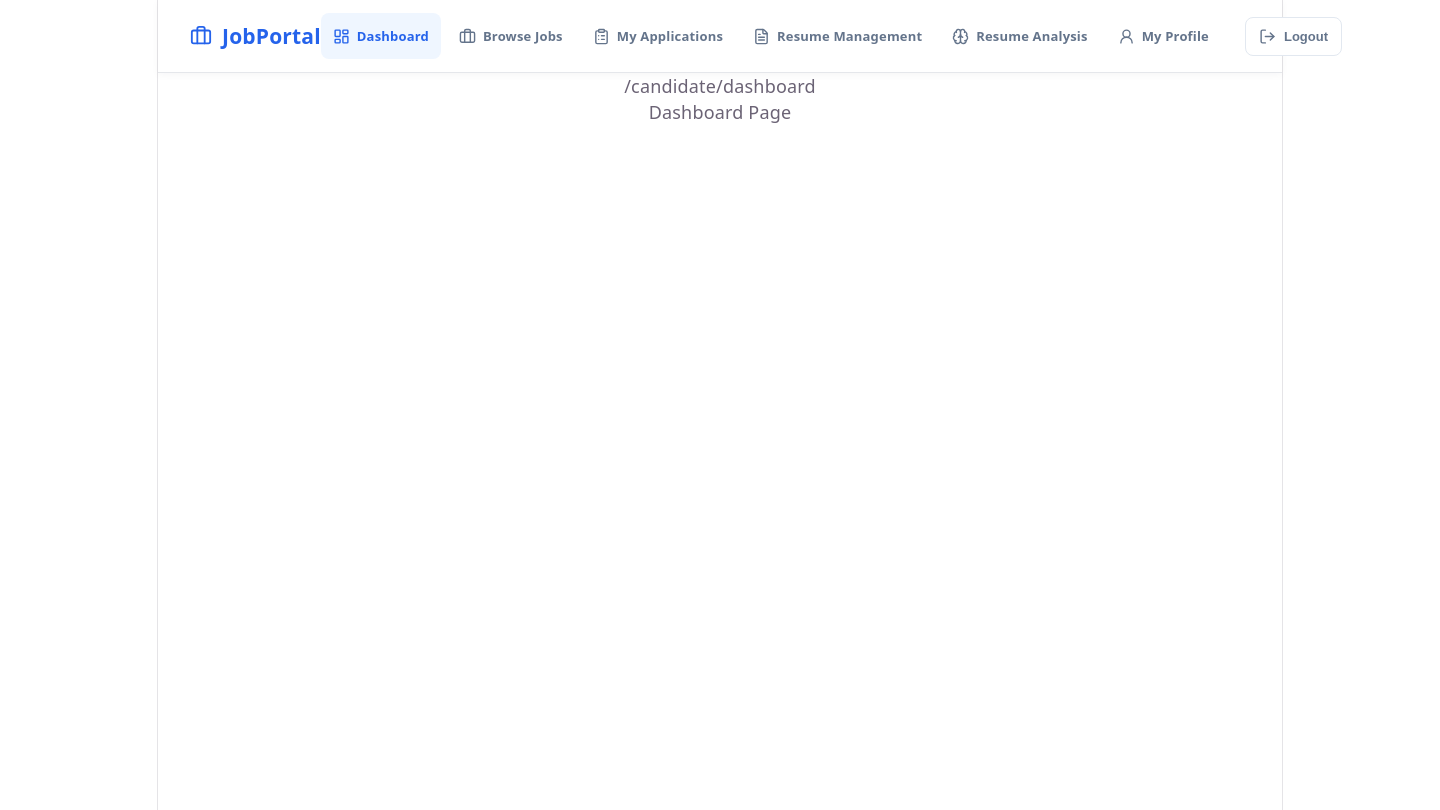
Test: CandidateNavbar › navigates to Resume Management
The width and height of the screenshot is (1440, 810).
Click the link "Resume Management": (838, 36) [753,27,922,45]
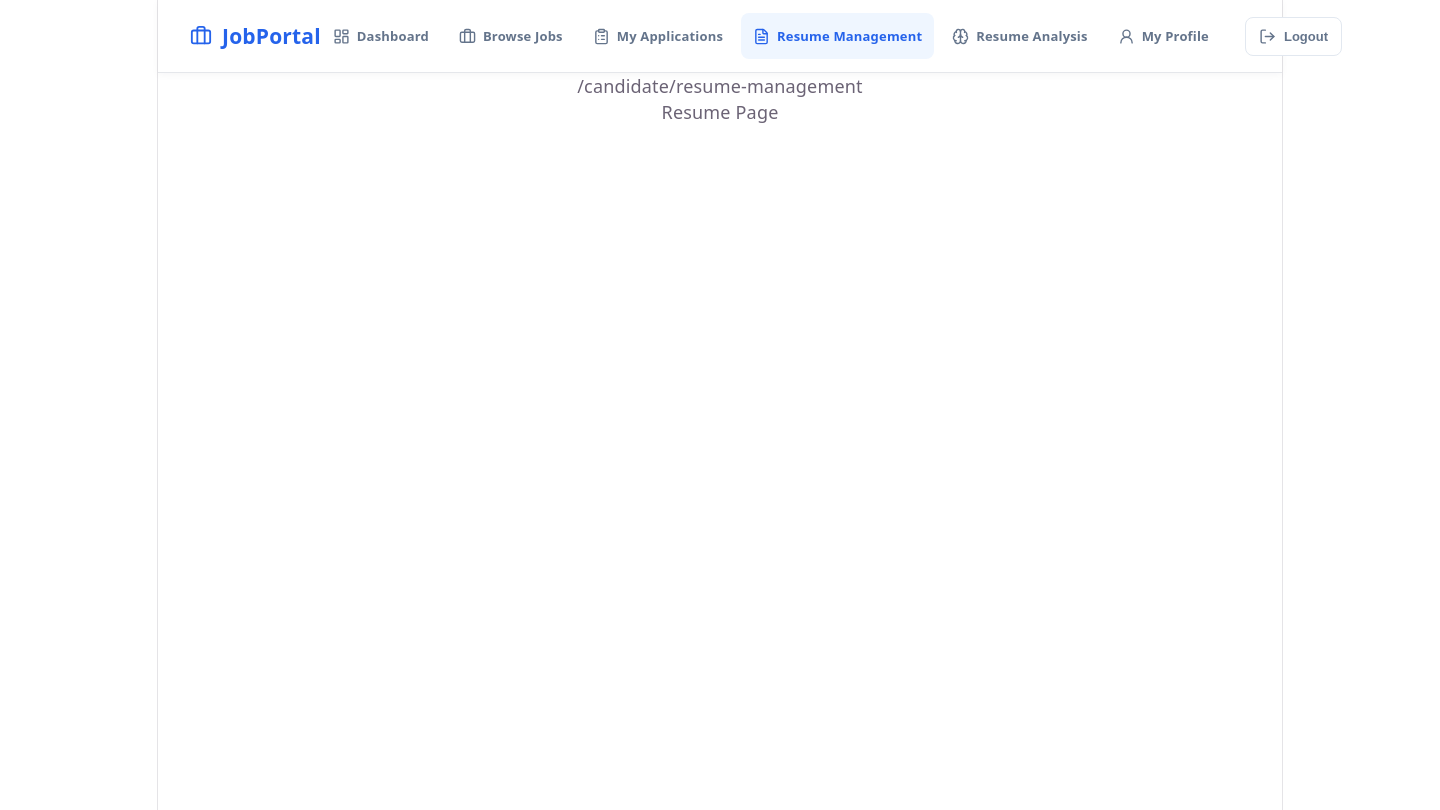
Expected: the text with test id "current-location" reads "/candidate/resume-management", [577,74,863,98]
